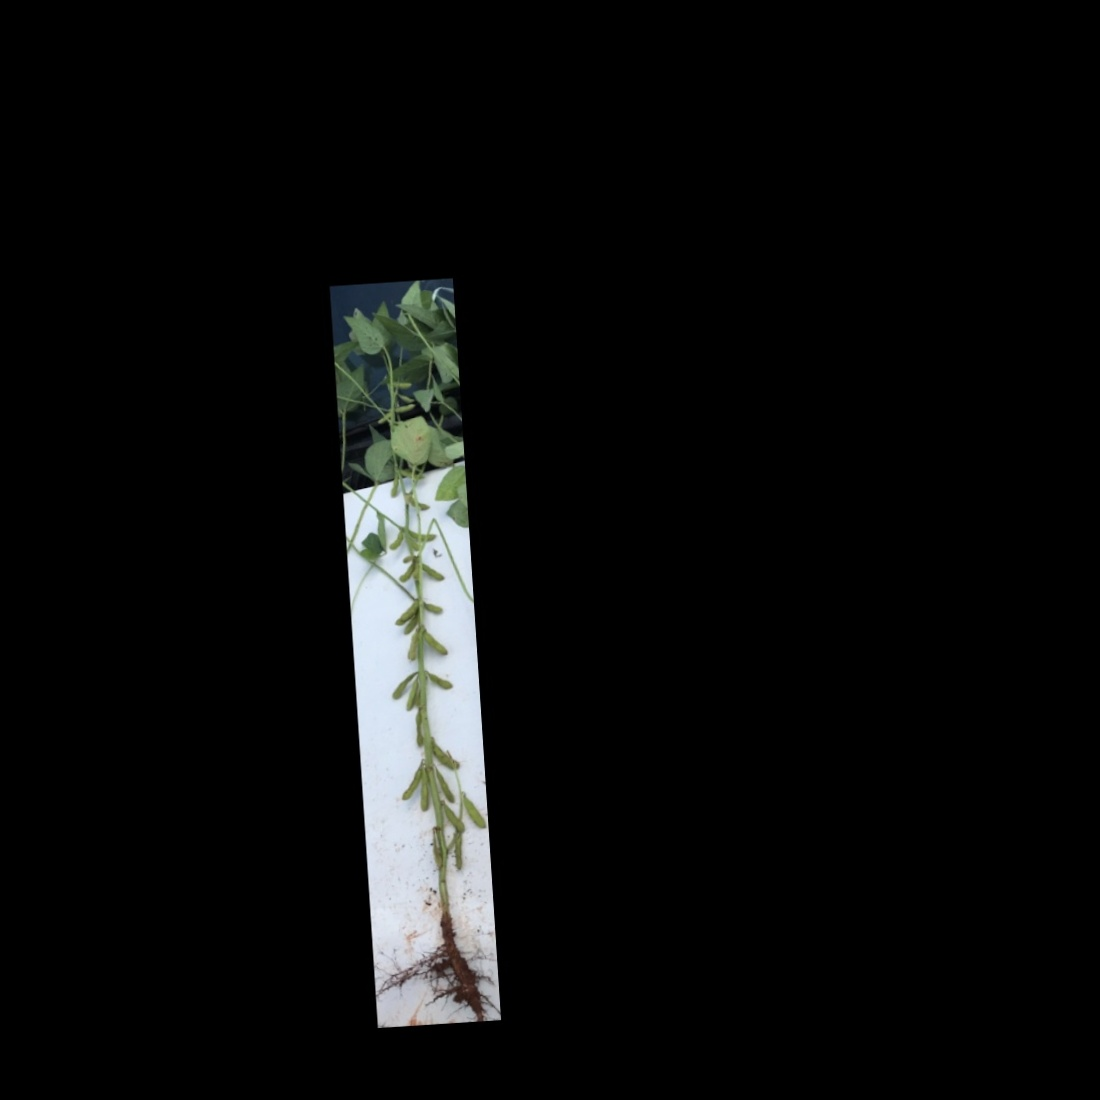pod: (428, 735, 461, 772), (456, 792, 486, 832), (385, 669, 422, 700), (399, 762, 426, 803), (422, 625, 450, 658), (390, 597, 419, 628), (418, 558, 448, 585), (440, 802, 465, 834), (450, 834, 468, 878), (423, 667, 455, 691), (436, 767, 456, 805), (416, 768, 432, 812), (404, 628, 421, 664), (417, 597, 445, 616), (407, 526, 438, 543), (404, 680, 420, 712), (395, 559, 415, 584), (388, 528, 406, 552)
soy: (331, 281, 497, 1018)
